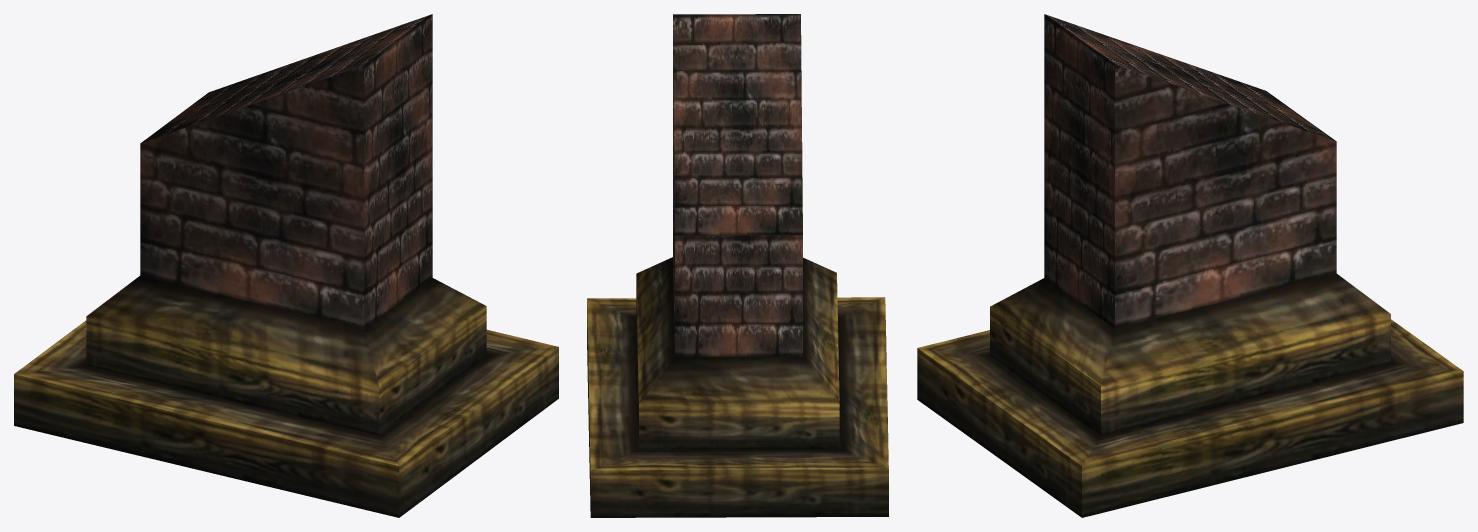
The model's file is CB_NEWPLAYSURFACE_GANDALF_COLUMNBASE.fbx.
3 renders of one model, left to right at view 1: azimuth 30°, elevation 25°; view 2: azimuth 150°, elevation 25°; view 3: azimuth 270°, elevation 25°, orthographic. The views are drawn at different scales.
Visible parts, largest first — view 1: CB_NEWPLAYSURFACE_GANDALF_COLUMNBASE; view 2: CB_NEWPLAYSURFACE_GANDALF_COLUMNBASE; view 3: CB_NEWPLAYSURFACE_GANDALF_COLUMNBASE.
Part boxes in pixels (bbox=[...]): CB_NEWPLAYSURFACE_GANDALF_COLUMNBASE: bbox=[14, 14, 558, 517]; CB_NEWPLAYSURFACE_GANDALF_COLUMNBASE: bbox=[587, 14, 888, 517]; CB_NEWPLAYSURFACE_GANDALF_COLUMNBASE: bbox=[917, 14, 1463, 517].
Size of the model in its own units: 58229 by 50908 by 63057.
2 materials, 2 textured.
